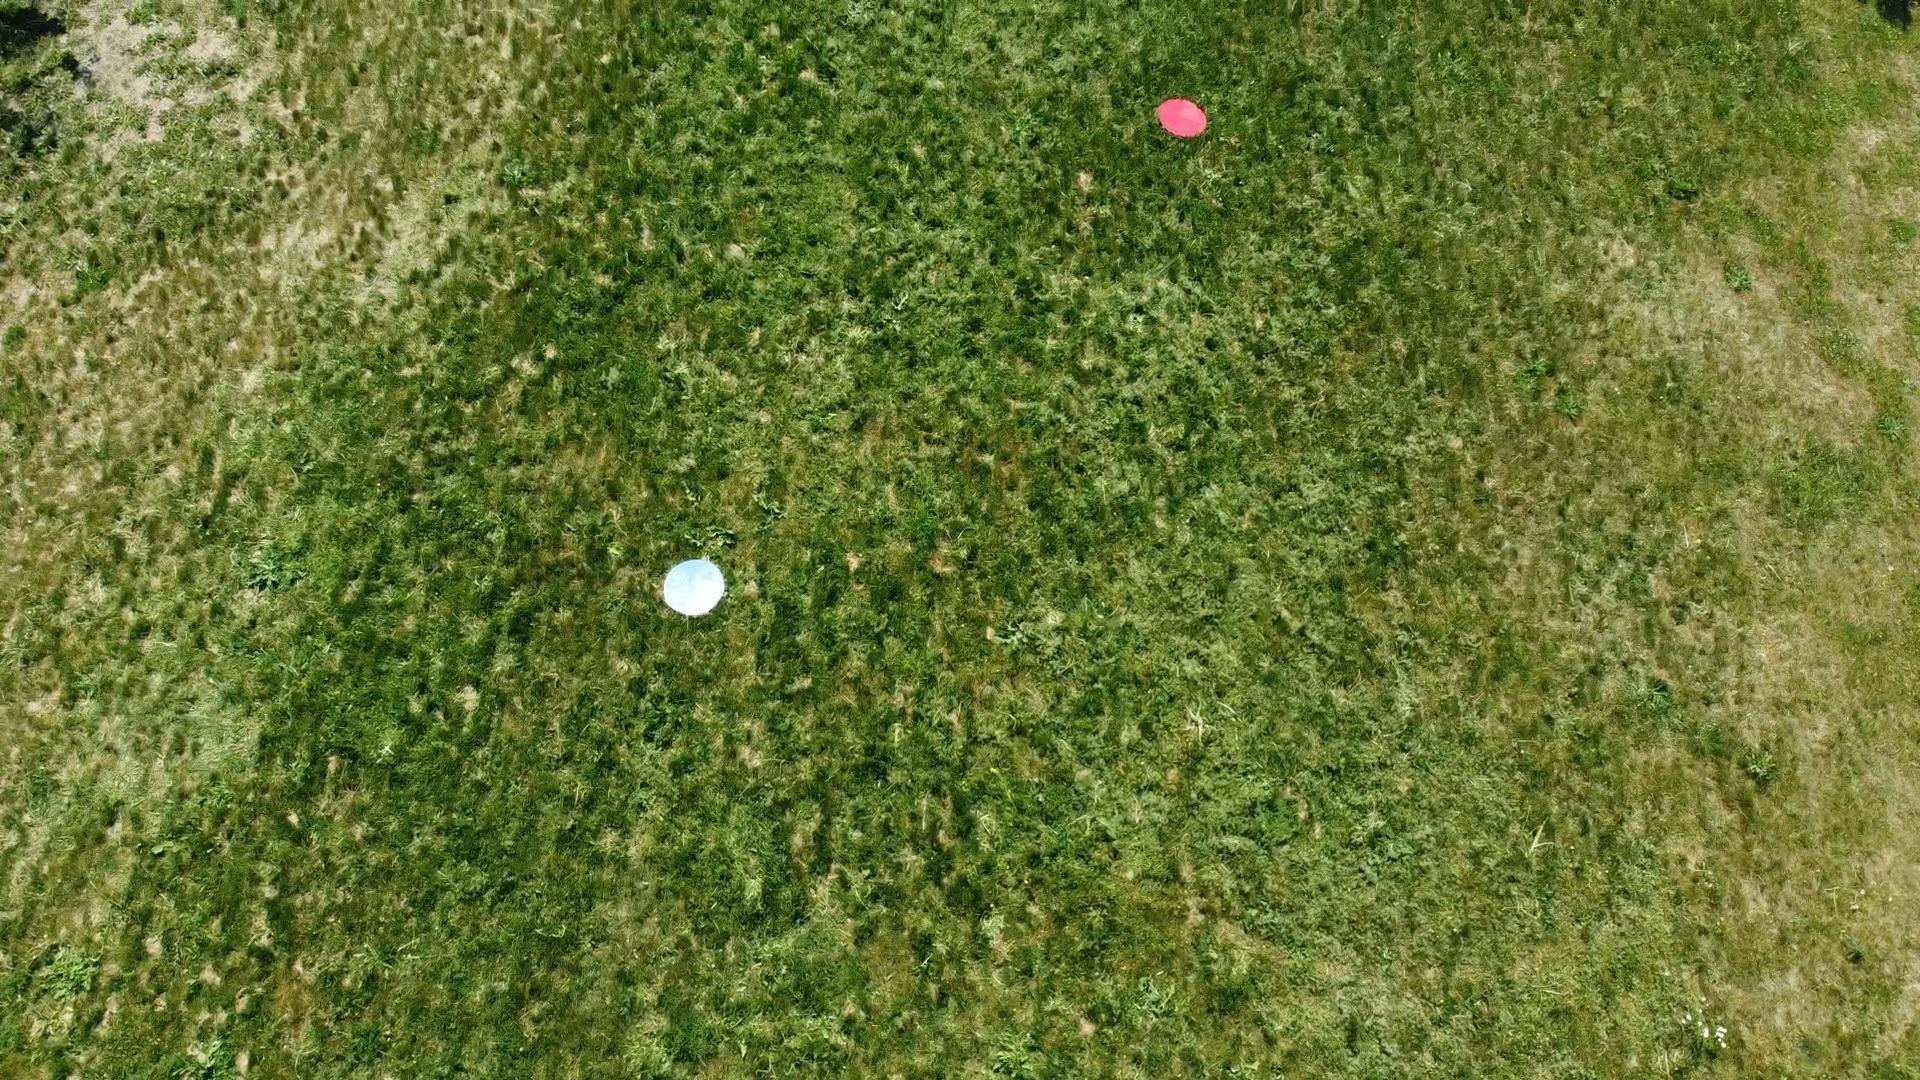Blue: (658, 556, 728, 620)
Red: (1156, 94, 1209, 141)
